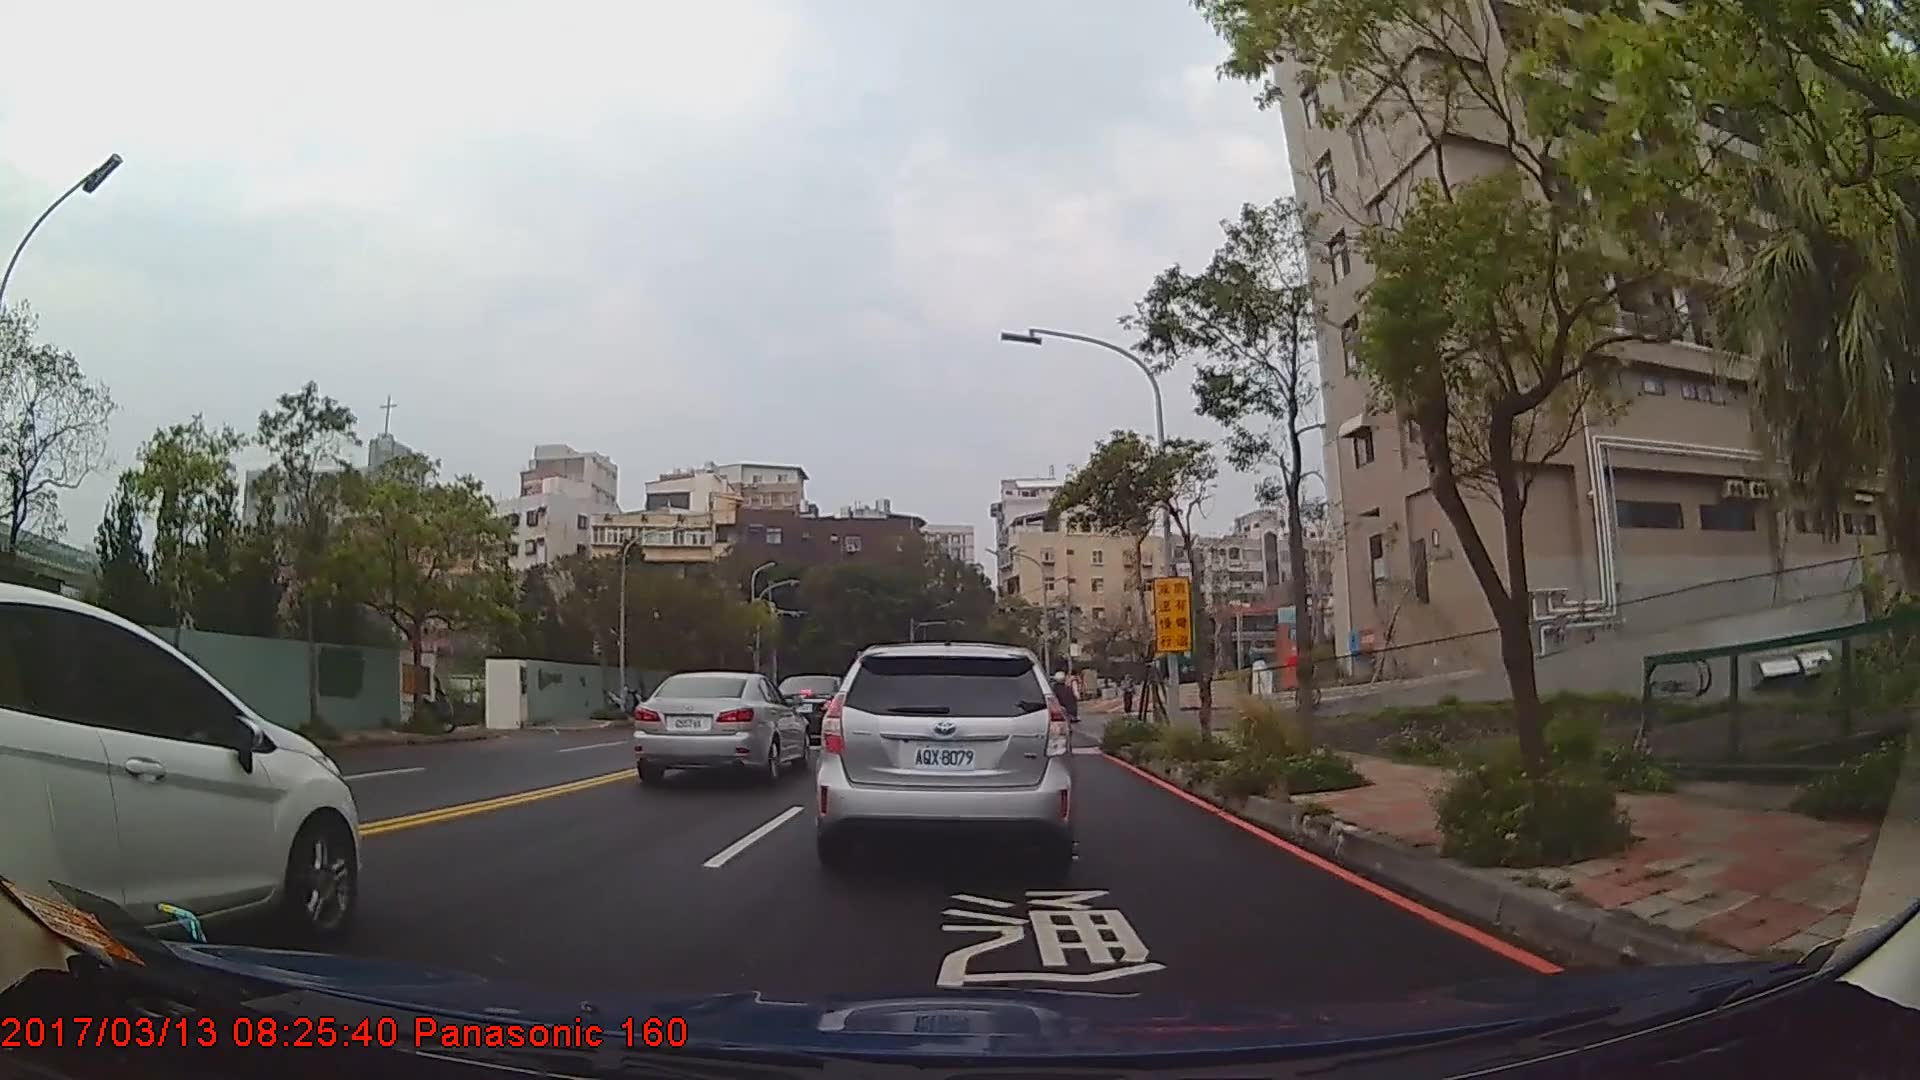rider: (1043, 671, 1078, 747)
vehicle: (0, 578, 361, 954), (816, 640, 1074, 869), (632, 671, 809, 784), (775, 675, 856, 742)
